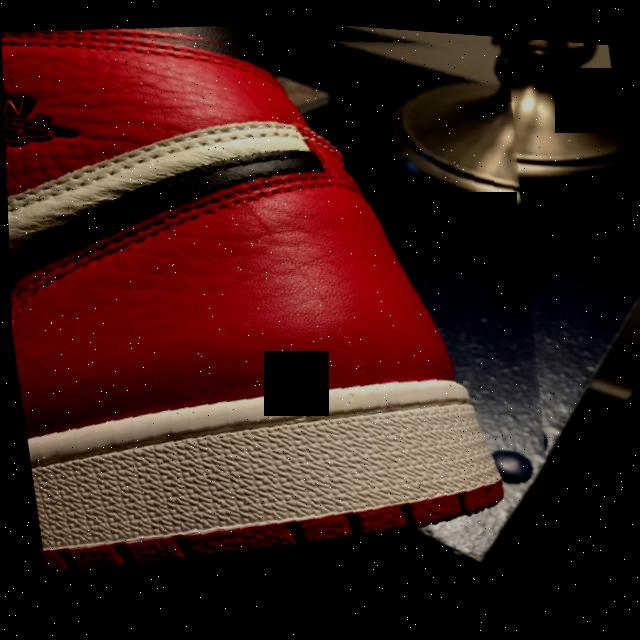shoe: (0, 0, 578, 630)
